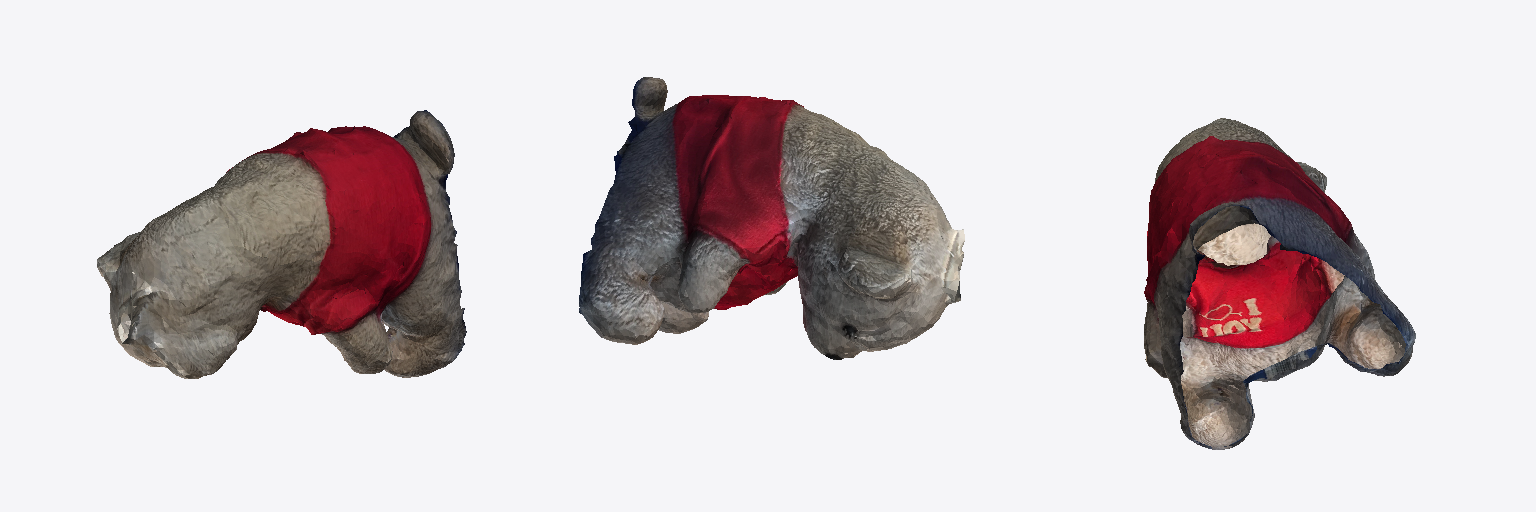
3 renders of one model, left to right at view 1: azimuth 30°, elevation 25°; view 2: azimuth 150°, elevation 25°; view 3: azimuth 270°, elevation 25°, orthographic.
Parts seen in each view (by area): view 1: Group_Global; view 2: Group_Global; view 3: Group_Global.
Part boxes in pixels (x1,y1,x2,y2): Group_Global: (97,110,466,378); Group_Global: (579,77,964,359); Group_Global: (1144,118,1415,449).
Size of the model in its own units: 8.67 by 6.41 by 6.23.
1 materials, 1 textured.